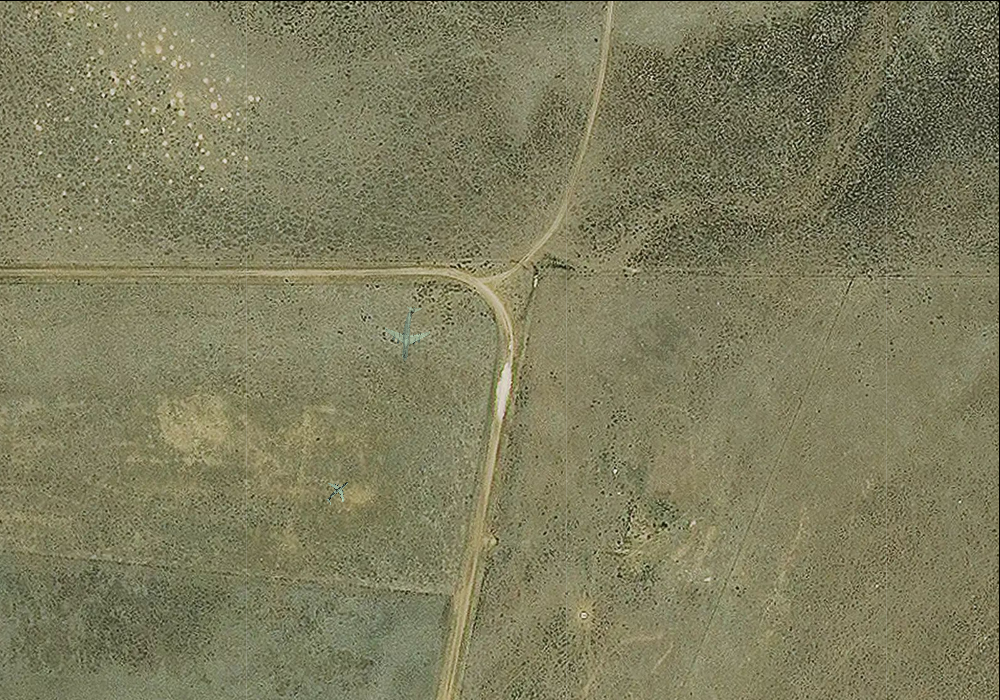plane: (380, 303, 437, 364), (318, 473, 356, 511)
